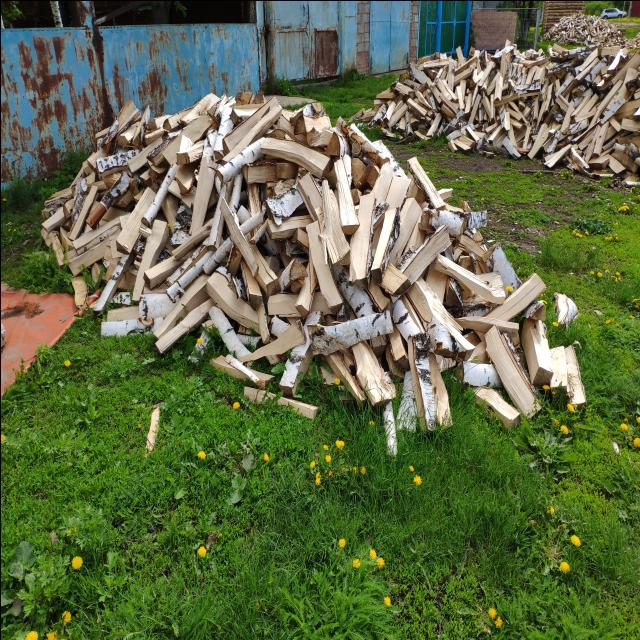restos de madeira: (302, 304, 392, 356), (218, 196, 266, 286), (222, 96, 281, 160), (155, 258, 212, 320), (210, 129, 266, 187), (304, 224, 342, 308), (410, 332, 444, 424), (351, 340, 396, 408), (210, 274, 262, 330), (128, 224, 164, 304), (318, 179, 350, 269), (542, 12, 624, 46), (398, 230, 444, 290), (238, 324, 306, 364), (116, 187, 156, 253), (348, 186, 374, 284), (469, 382, 522, 430), (370, 200, 400, 284), (64, 212, 124, 254), (388, 199, 421, 274), (161, 298, 211, 346), (493, 271, 547, 314), (250, 139, 338, 165), (142, 163, 176, 230), (521, 316, 553, 386), (324, 353, 364, 405), (213, 358, 276, 391), (332, 155, 358, 234), (248, 390, 316, 420), (242, 241, 278, 297), (67, 180, 99, 243), (296, 170, 328, 230), (89, 260, 128, 308), (408, 156, 442, 208), (126, 134, 168, 176), (432, 312, 474, 352), (561, 343, 586, 409), (407, 342, 427, 424), (144, 248, 184, 288), (396, 369, 416, 449), (262, 182, 304, 220), (590, 76, 624, 122), (190, 156, 213, 223), (456, 318, 518, 342), (276, 347, 304, 398), (168, 227, 206, 263), (382, 169, 411, 215), (604, 53, 638, 92), (405, 278, 435, 322), (492, 250, 522, 294), (459, 360, 504, 389), (548, 344, 570, 403), (262, 212, 314, 236), (398, 294, 426, 338), (207, 186, 225, 253), (154, 131, 184, 169), (371, 160, 393, 210), (424, 256, 449, 300), (246, 160, 295, 182), (176, 114, 210, 144), (268, 292, 306, 318), (115, 98, 141, 136), (381, 262, 408, 298), (431, 208, 465, 236), (172, 160, 198, 196), (526, 120, 550, 158), (472, 270, 507, 296), (386, 321, 406, 363), (144, 406, 162, 452), (161, 192, 180, 235), (98, 320, 149, 336), (382, 398, 396, 454), (542, 142, 572, 168), (574, 50, 600, 80), (42, 185, 74, 209), (40, 206, 68, 233), (535, 82, 553, 124), (226, 168, 242, 215), (344, 122, 369, 152), (237, 210, 265, 236), (464, 336, 490, 364), (590, 120, 608, 160), (246, 180, 261, 228), (178, 140, 204, 166), (306, 126, 334, 150), (458, 232, 486, 256), (304, 114, 332, 138), (195, 92, 219, 120), (85, 145, 108, 174), (116, 122, 140, 148), (554, 70, 576, 98), (68, 160, 90, 188), (348, 156, 366, 190), (387, 98, 408, 127), (437, 76, 458, 105), (444, 276, 464, 306), (612, 98, 639, 120), (546, 58, 580, 75), (358, 140, 382, 164), (464, 208, 488, 232), (568, 146, 590, 172), (256, 302, 270, 342), (472, 62, 493, 88), (50, 232, 66, 266), (268, 314, 290, 338), (606, 46, 626, 72), (494, 90, 524, 107), (105, 306, 141, 320), (406, 96, 428, 118), (466, 91, 481, 123), (500, 134, 520, 158), (288, 258, 308, 282), (524, 301, 546, 322), (368, 102, 387, 126), (342, 106, 366, 125), (603, 154, 625, 174), (408, 62, 428, 84), (142, 125, 164, 144), (448, 134, 474, 150), (363, 164, 379, 189), (520, 54, 548, 68), (232, 333, 260, 347), (426, 112, 442, 136), (393, 80, 416, 96), (492, 69, 503, 102), (418, 57, 451, 68), (436, 354, 456, 372), (160, 112, 182, 128), (382, 98, 396, 122), (619, 116, 640, 132), (626, 26, 640, 49), (454, 80, 465, 108), (375, 86, 395, 99), (499, 48, 507, 80), (235, 90, 252, 104), (525, 78, 541, 92), (448, 57, 454, 93), (437, 187, 452, 200), (398, 111, 406, 134), (550, 42, 564, 54), (311, 100, 323, 114), (588, 169, 614, 175), (632, 100, 640, 118), (624, 178, 640, 186)
